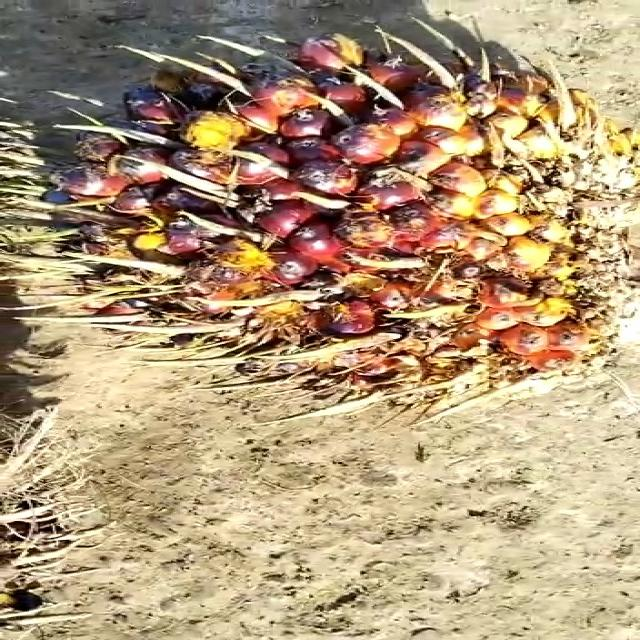palm oil: (19, 29, 640, 424)
